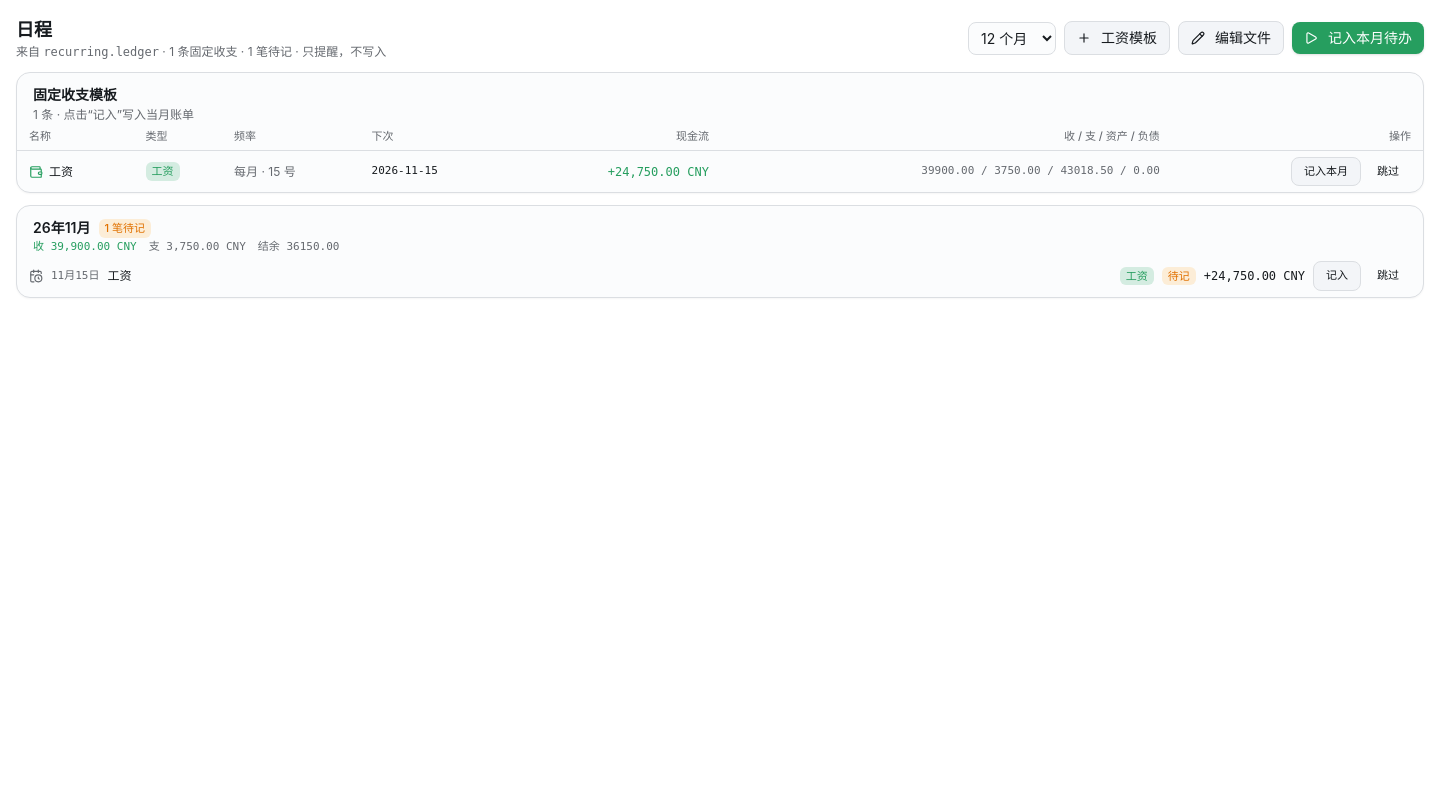
it: Schedule page › shows the tax column of the templates and lets the salary modal set deductions
Click the button "工资模板". click: (1117, 38)
box: top-left (1064, 21), bottom-right (1170, 55)
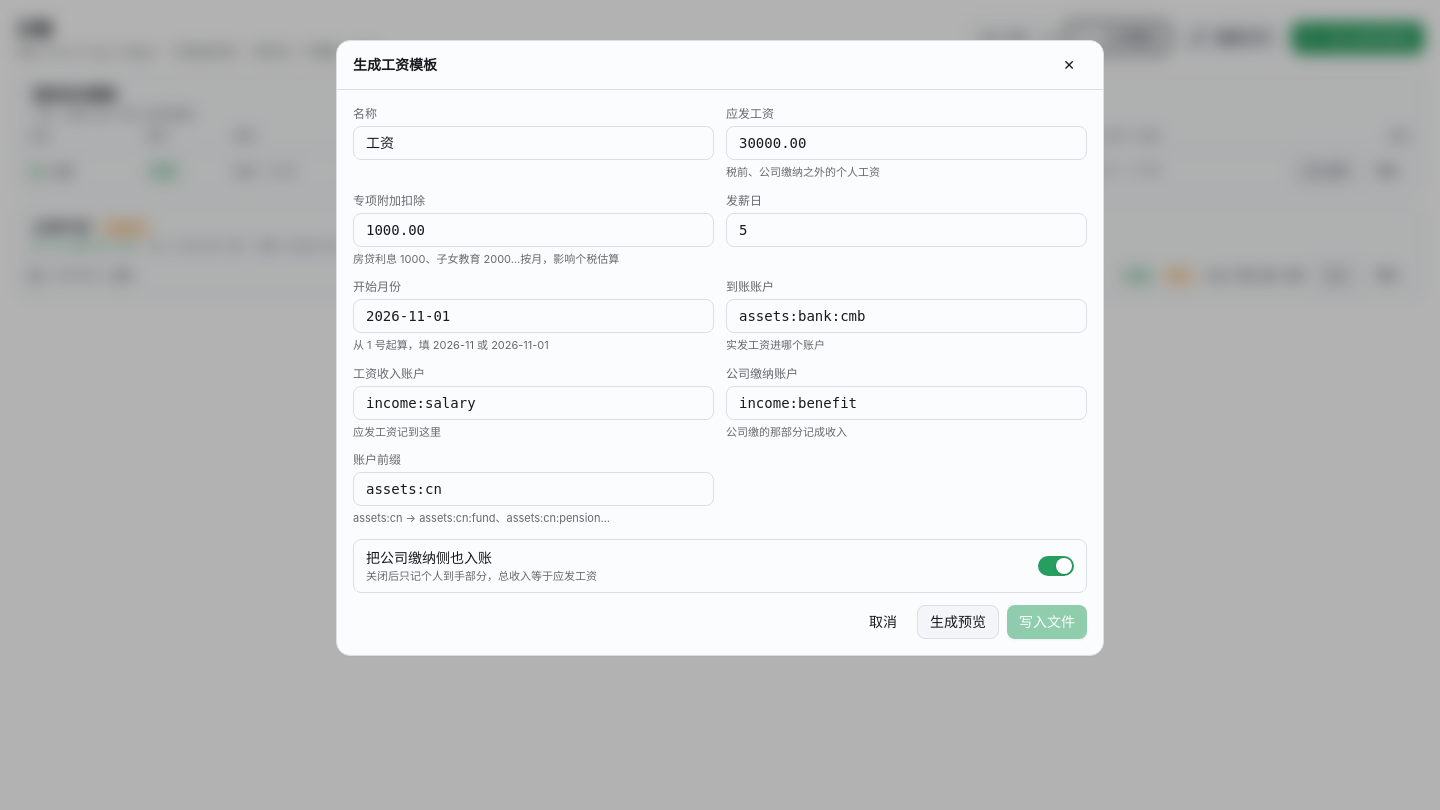
Expected: the field labelled "专项附加扣除 房贷利息 1000、子女教育 2000…按月，影响个税估算" holds "1000.00", top-left (353, 212), bottom-right (714, 246)
